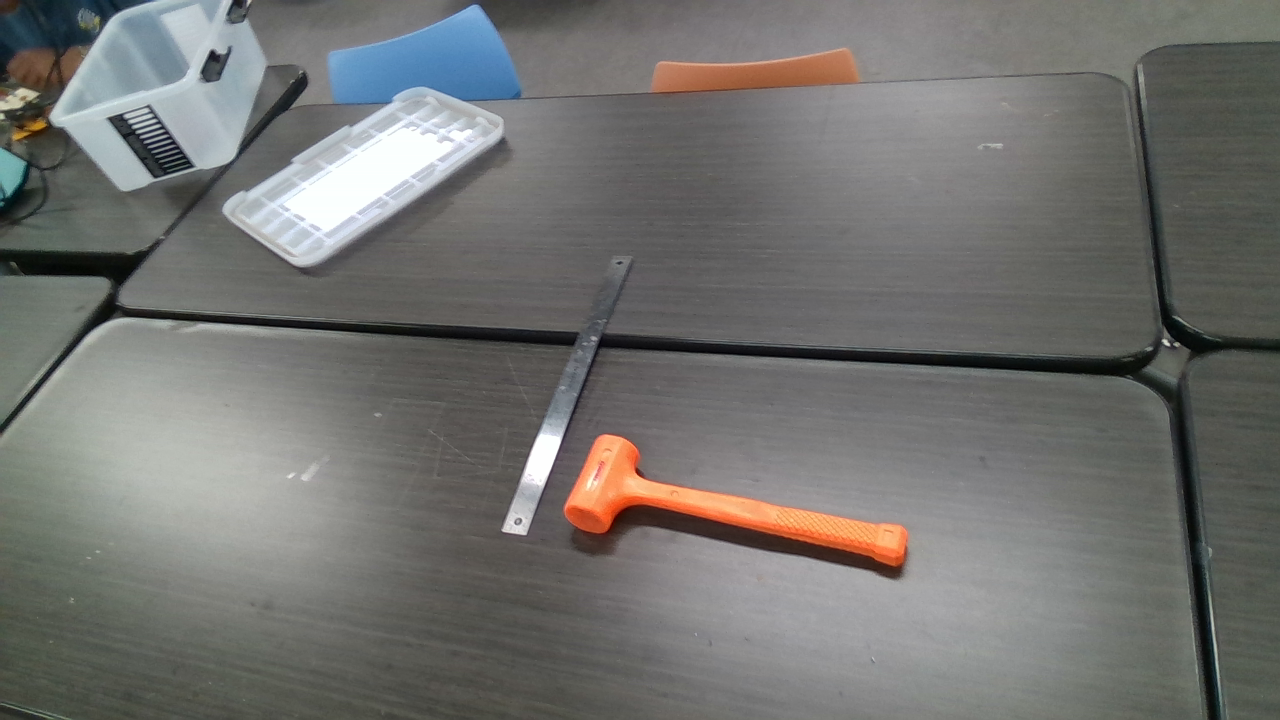Orange Hammer: (565, 437, 906, 568)
